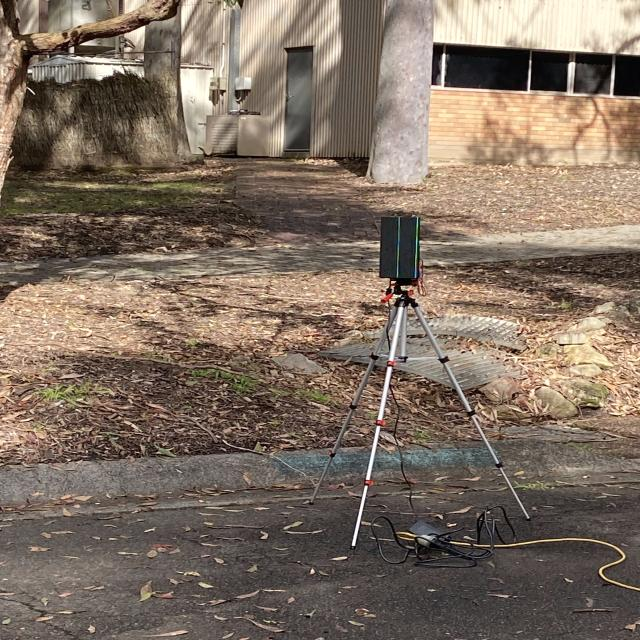matrix: (374, 211, 426, 284)
